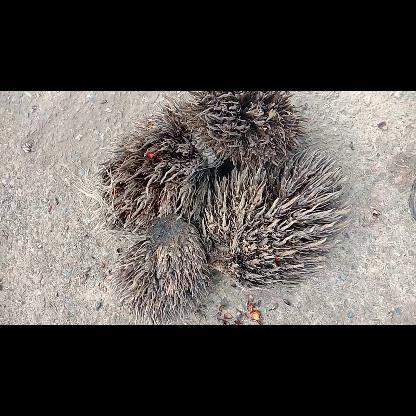Janjang kosong: (202, 150, 348, 288), (90, 96, 222, 234), (111, 214, 213, 324), (186, 90, 306, 166)
